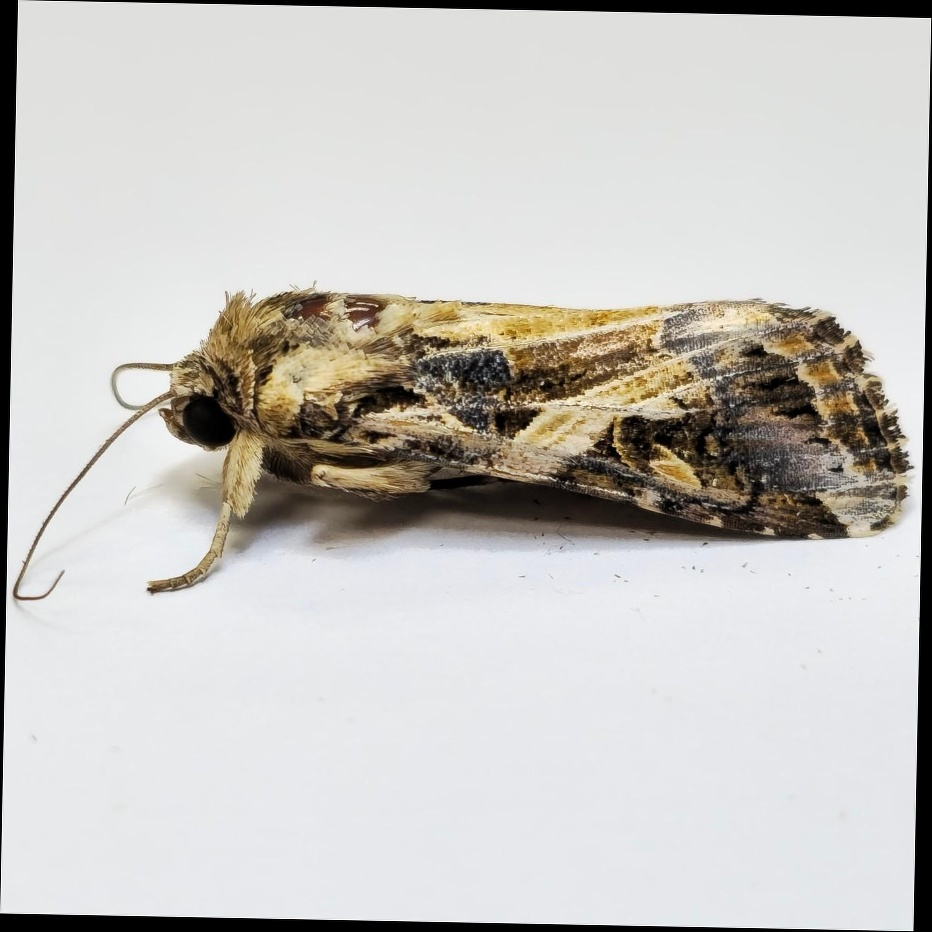Spodoptera litura: (15, 280, 917, 612)
